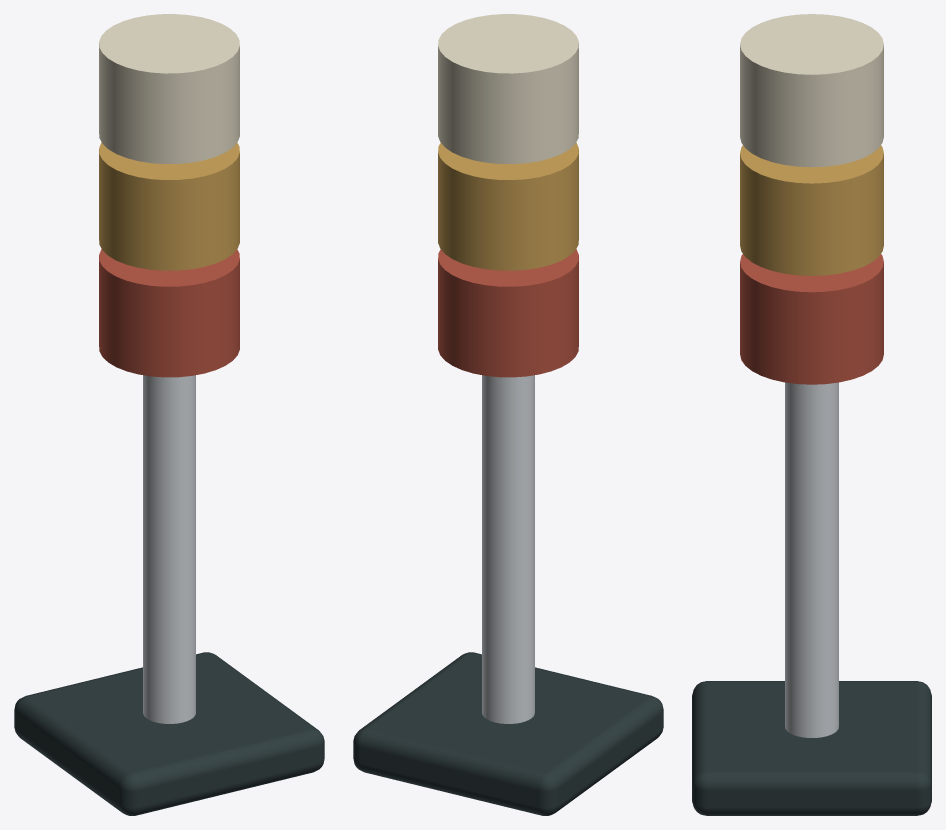
The model's file is success.glb.
3 renders of one model, left to right at view 1: azimuth 30°, elevation 25°; view 2: azimuth 150°, elevation 25°; view 3: azimuth 270°, elevation 25°, orthographic.
Parts seen in each view (by area): view 1: success; view 2: success; view 3: success.
Part boxes in pixels (x1,y1,x2,y2): success: [14, 14, 324, 815]; success: [353, 14, 663, 815]; success: [692, 14, 931, 815].
Size of the model in its own units: 0.4 by 1.33 by 0.4.
